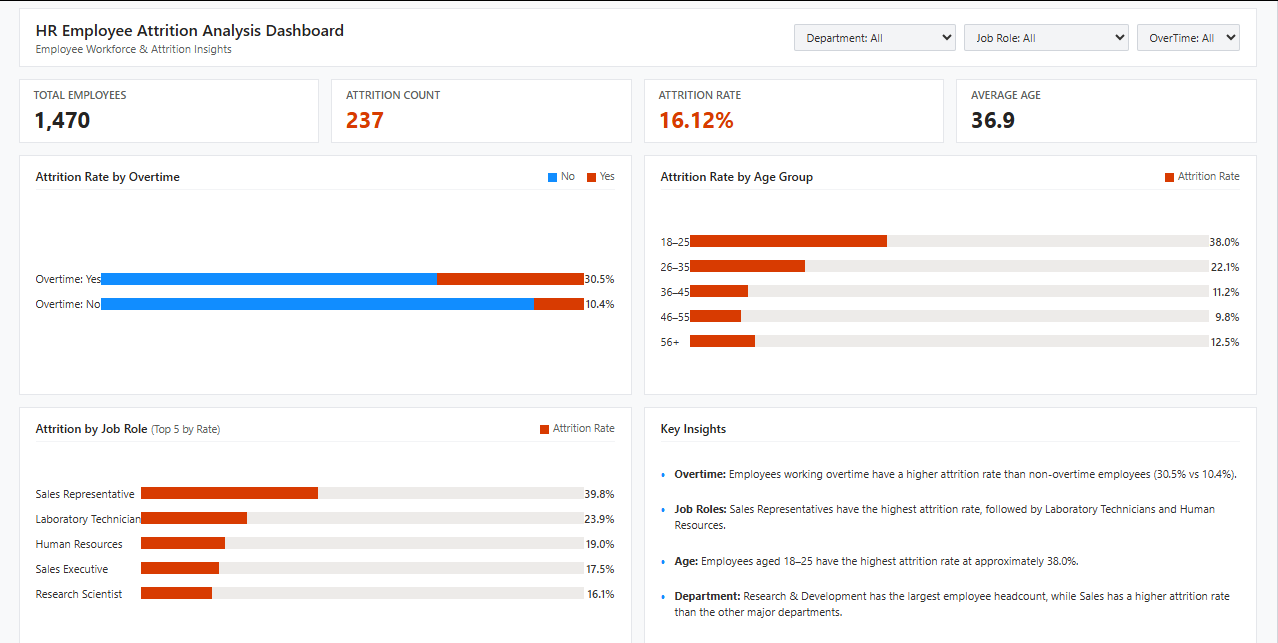

Layout of this report page (visuals, bound fields, positions):
{"tool":"powerbi","page":{"name":"Page 2","canvas":[1280,720],"ordinal":1},"visuals":[{"type":"donutChart","title":"Overtime Impact on Attrition","fields":{"Category":["WA_Fn-UseC_-HR-Employee-Attrition.Attrition"],"Y":["Sum(WA_Fn-UseC_-HR-Employee-Attrition.EmployeeCount)"]},"box":[0,60.3,272.9,322.6],"z":0},{"type":"barChart","title":"Employees by Department","fields":{"Category":["WA_Fn-UseC_-HR-Employee-Attrition.Department"],"Y":["Sum(WA_Fn-UseC_-HR-Employee-Attrition.EmployeeCount)"]},"box":[0,383,487.1,337.6],"z":1000},{"type":"barChart","title":"Attrition Distribution","fields":{"Category":["WA_Fn-UseC_-HR-Employee-Attrition.OverTime"],"Y":["Sum(WA_Fn-UseC_-HR-Employee-Attrition.EmployeeCount)"],"Series":["WA_Fn-UseC_-HR-Employee-Attrition.Attrition"]},"box":[486.8,383.4,552.6,336.4],"z":2000},{"type":"barChart","title":"Attrition by Age","fields":{"Category":["WA_Fn-UseC_-HR-Employee-Attrition.Age"],"Y":["Sum(WA_Fn-UseC_-HR-Employee-Attrition.EmployeeCount)"],"Series":["WA_Fn-UseC_-HR-Employee-Attrition.Attrition"]},"box":[263.1,60.1,308.3,323.3],"z":3000},{"type":"textbox","box":[0,0,572.8,60.5],"z":4000},{"type":"cardVisual","fields":{"Data":["CountNonNull(WA_Fn-UseC_-HR-Employee-Attrition.EmployeeCount)"]},"box":[1039.4,383.4,240.6,336.4],"z":5000},{"type":"barChart","fields":{"Category":["WA_Fn-UseC_-HR-Employee-Attrition.JobRole"],"Y":["Sum(WA_Fn-UseC_-HR-Employee-Attrition.EmployeeCount)"],"Series":["WA_Fn-UseC_-HR-Employee-Attrition.Attrition"]},"box":[572.8,0,707.2,383],"z":6000}]}

Visuals, with their boxes on the page's 1280x720 design canvas (x1, y1, x2, y2). These are canvas units, not pixel positions in the 1278x643 screenshot, which may show the page scaled, cropped or inside an application window:
"Overtime Impact on Attrition" donutChart: locate(0, 60, 273, 383)
"Employees by Department" barChart: locate(0, 383, 487, 721)
"Attrition Distribution" barChart: locate(487, 383, 1039, 720)
"Attrition by Age" barChart: locate(263, 60, 571, 383)
textbox: locate(0, 0, 573, 60)
cardVisual - CountNonNull(WA_Fn-UseC_-HR-Employee-Attrition.EmployeeCount): locate(1039, 383, 1280, 720)
barChart - WA_Fn-UseC_-HR-Employee-Attrition.JobRole x Sum(WA_Fn-UseC_-HR-Employee-Attrition.EmployeeCount): locate(573, 0, 1280, 383)
